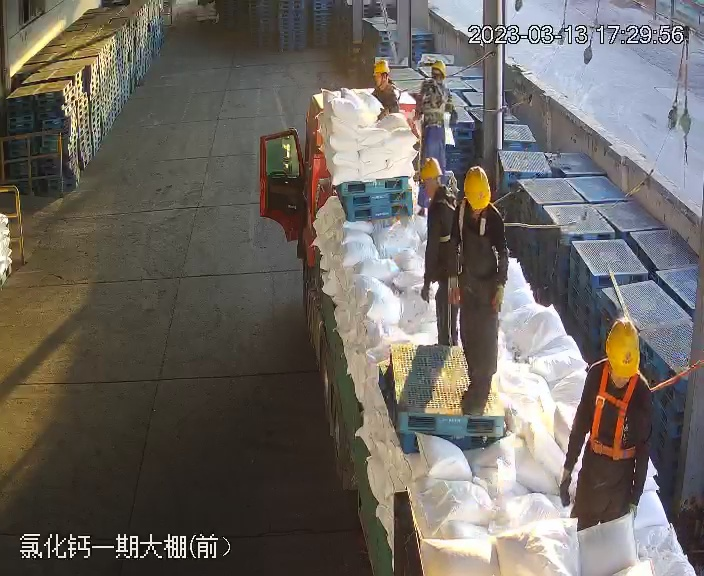belt: (583, 361, 656, 455), (452, 201, 501, 240), (421, 80, 451, 112), (390, 82, 407, 107)
head: (568, 318, 655, 416), (441, 171, 507, 237), (417, 159, 461, 217), (416, 60, 451, 104), (371, 59, 399, 101)
helmet: (603, 319, 642, 375), (463, 166, 492, 208), (416, 159, 441, 181), (427, 60, 447, 78), (373, 59, 389, 74)
people: (429, 166, 511, 417), (559, 321, 656, 528), (414, 60, 457, 174)
truck: (265, 89, 695, 572)
